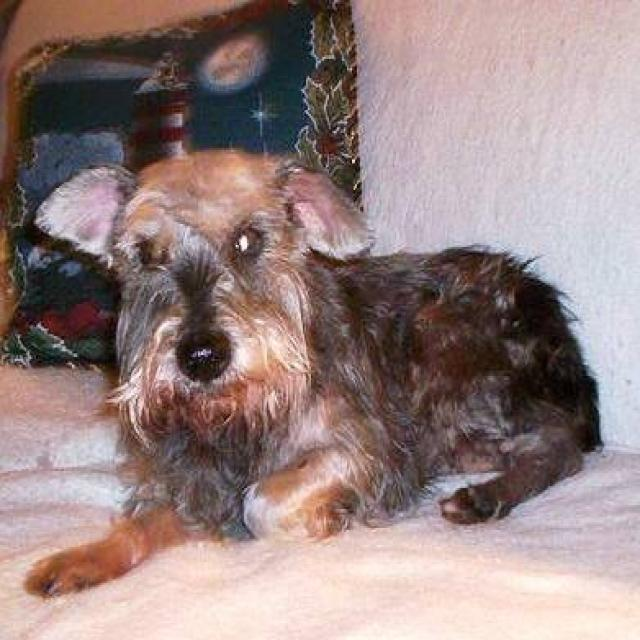dog: (23, 144, 602, 598)
